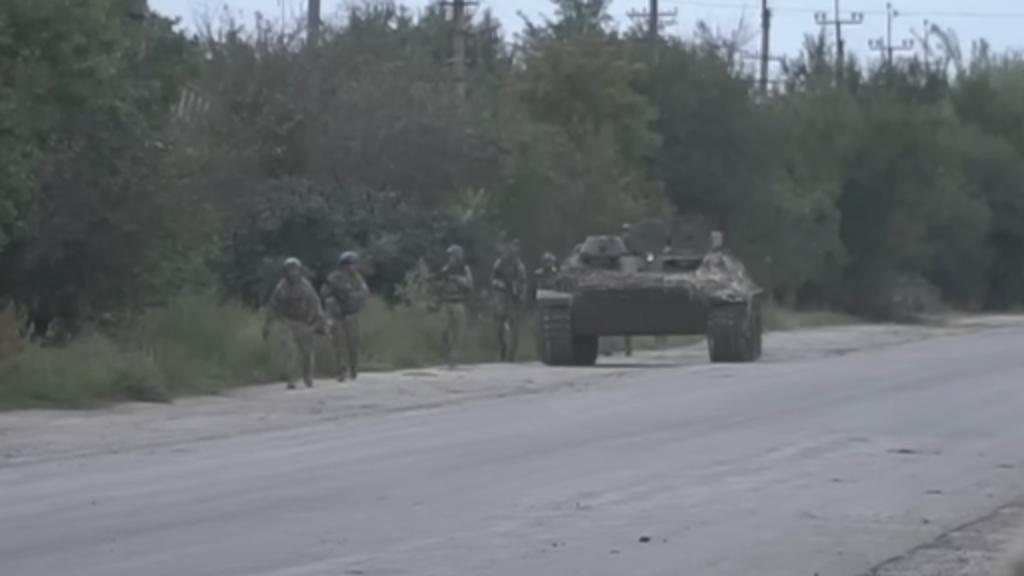APC-IFV: (522, 220, 790, 376)
